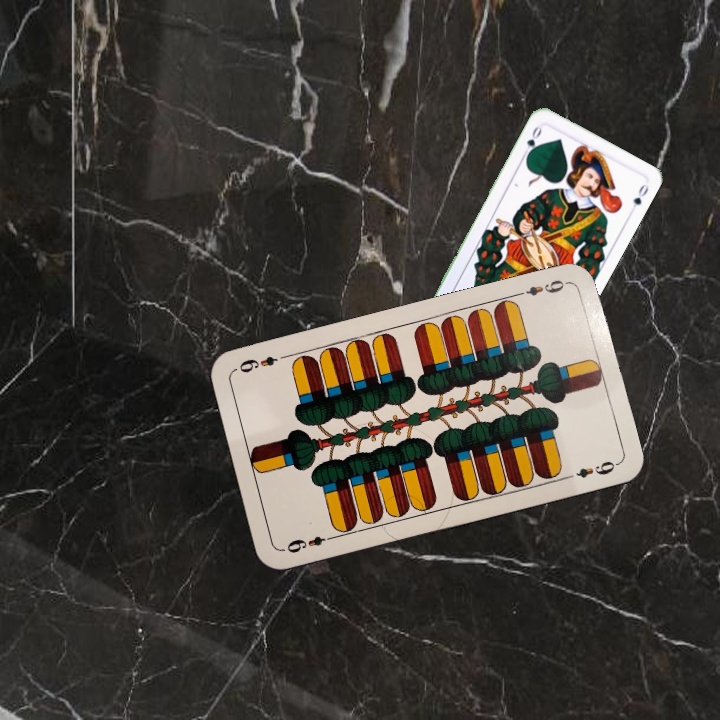E9: (513, 275, 572, 299), (282, 531, 338, 556)
GO: (519, 122, 544, 159)
